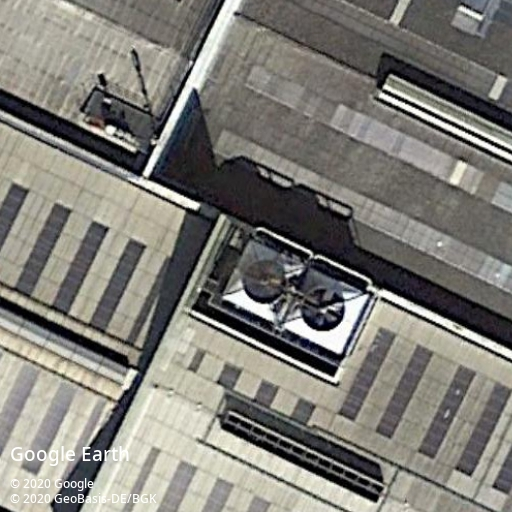Vent: (241, 258, 288, 305), (301, 286, 346, 332)
